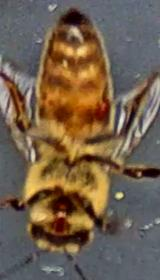varroa_mite: (88, 88, 113, 132)
